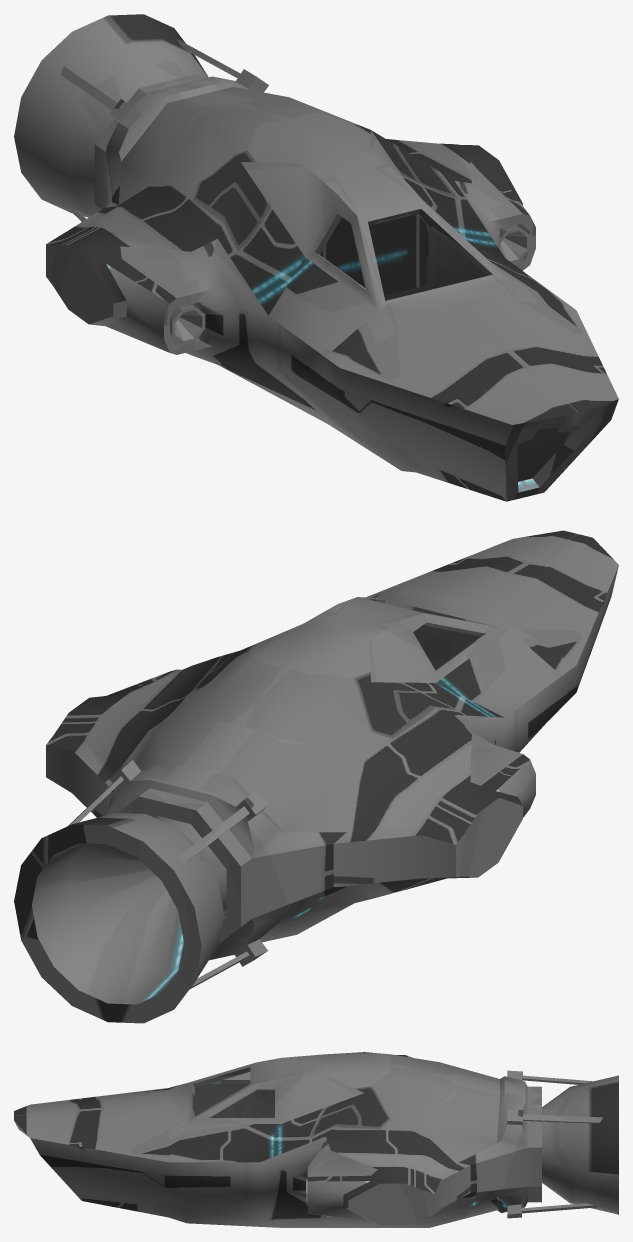
The model's file is Prometheus V.fbx.
3 views of the same model, one above another, from view 1: azimuth 30°, elevation 25°; view 2: azimuth 150°, elevation 25°; view 3: azimuth 270°, elevation 25° (orthographic). The views are drawn at different scales.
Visible parts, largest first — view 1: Promethetheus_LOD0; view 2: Promethetheus_LOD0; view 3: Promethetheus_LOD0.
Part boxes in pixels (box(x1,y1,x2,y2)): Promethetheus_LOD0: box(14, 14, 618, 501); Promethetheus_LOD0: box(14, 530, 618, 1023); Promethetheus_LOD0: box(14, 1052, 618, 1227).
Size of what is drawn, in the model's own units: 878 by 478 by 1745.
